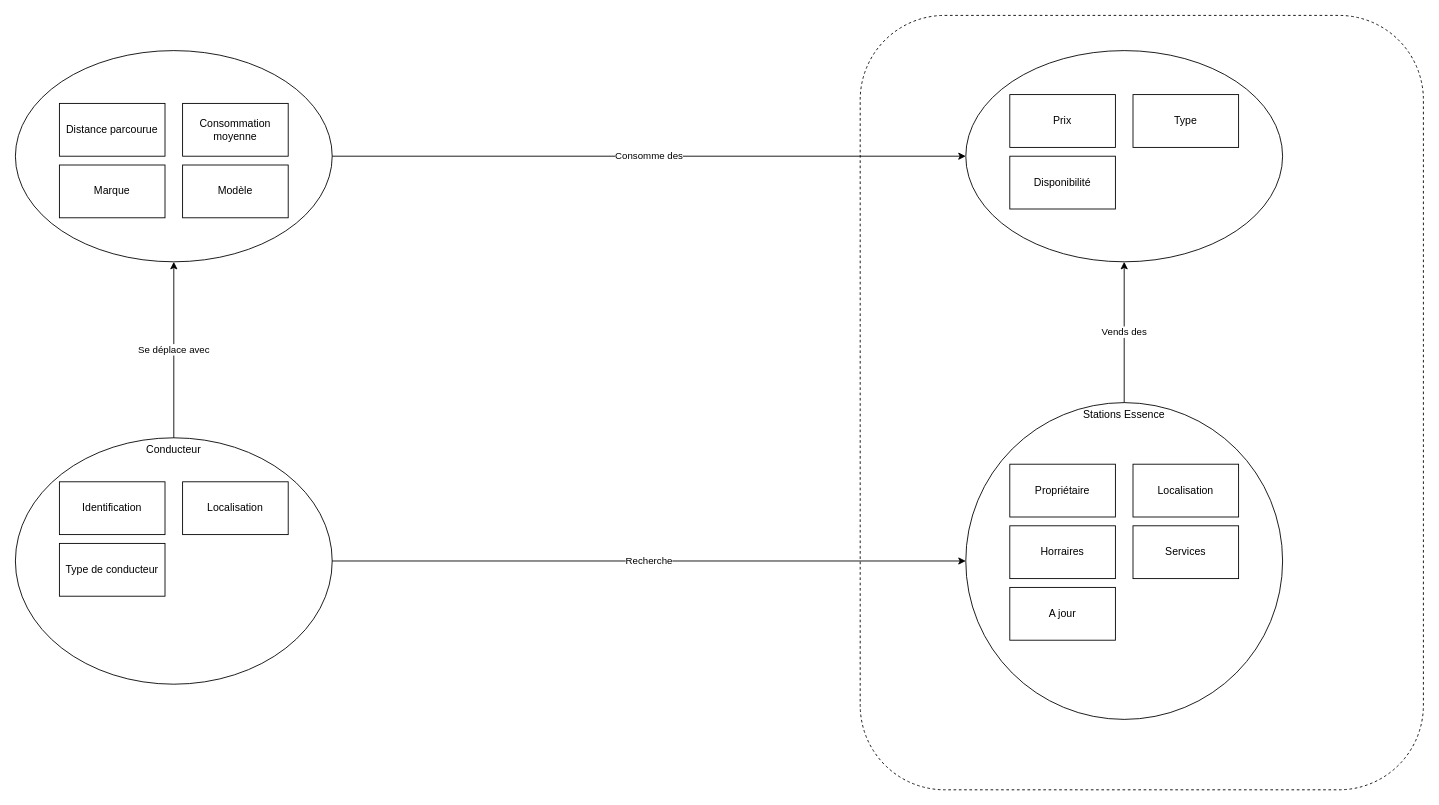
The diagram is 1439 pixels wide and 805 high, and some of its shapes have lost their labels. Here are the shapes that lost their labels. From the top down, the box of each, then its label:
(15, 50, 332, 262): Véhicules
(965, 50, 1283, 262): Carburants
(859, 15, 1423, 790): Carb Open Data
